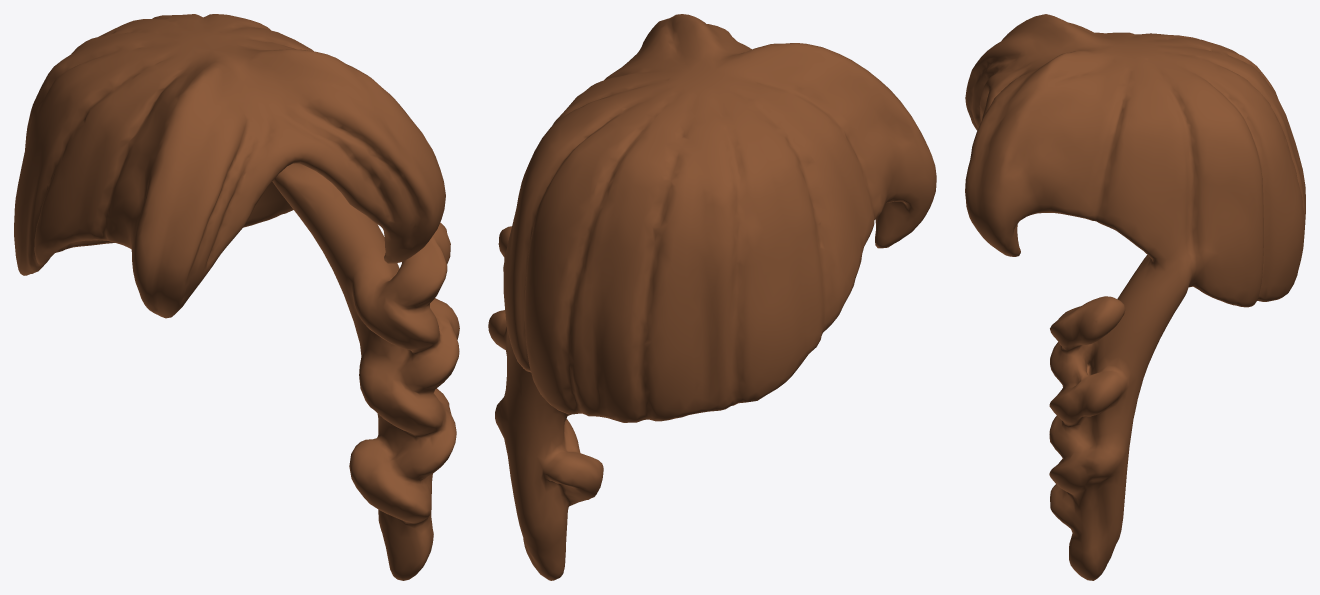
The model's file is copper_side_braid.glb.
3 renders of one model, left to right at view 1: azimuth 30°, elevation 25°; view 2: azimuth 150°, elevation 25°; view 3: azimuth 270°, elevation 25°, orthographic. The views are drawn at different scales.
Parts seen in each view (by area): view 1: copper_side_braid; view 2: copper_side_braid; view 3: copper_side_braid.
Boxes of the visible parts, bbox=[...] form: copper_side_braid: bbox=[14, 14, 459, 580]; copper_side_braid: bbox=[488, 14, 936, 580]; copper_side_braid: bbox=[965, 14, 1305, 580].
Size of the model in its own units: 0.9491 by 1.35 by 0.8782.
